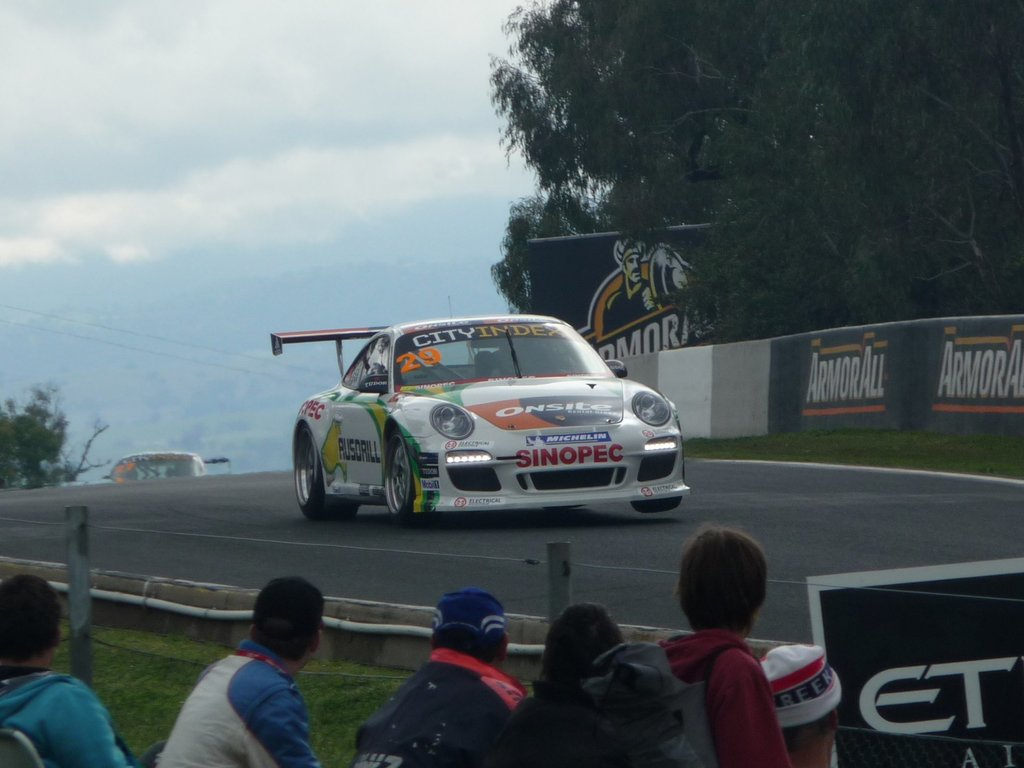mobil: (287, 313, 707, 519)
